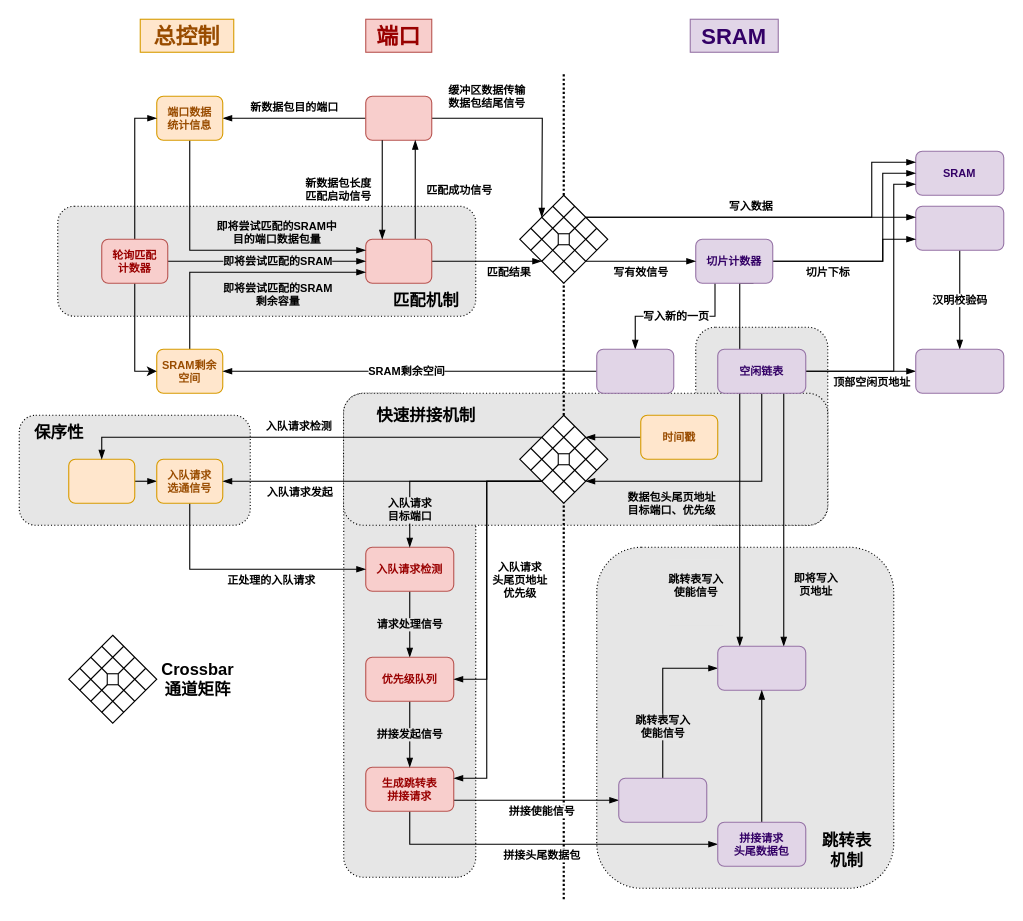
The diagram is 1023 pixels wide and 921 high, and some of its shapes have lost their labels. The centre of each missing label's shape, as x and y in pixels:
"ECC存储" goes at pixel 959 370.
"ECC校验模块" goes at pixel 959 227.
"写入前端" goes at pixel 398 117.
"剩余空间" goes at pixel 635 370.
"匹配模块" goes at pixel 398 260.
"拼接请求检测" goes at pixel 662 799.
"时间序列" goes at pixel 101 480.
"跳转表" goes at pixel 761 667.
